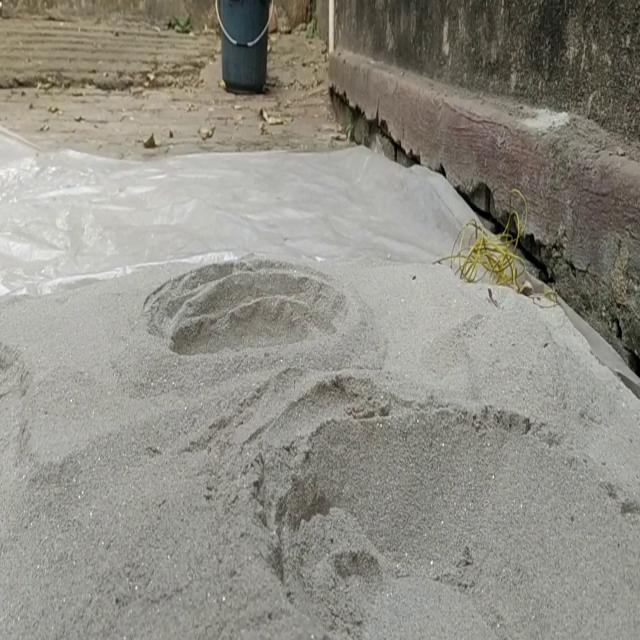C20: (261, 373, 620, 638), (144, 262, 345, 356)
